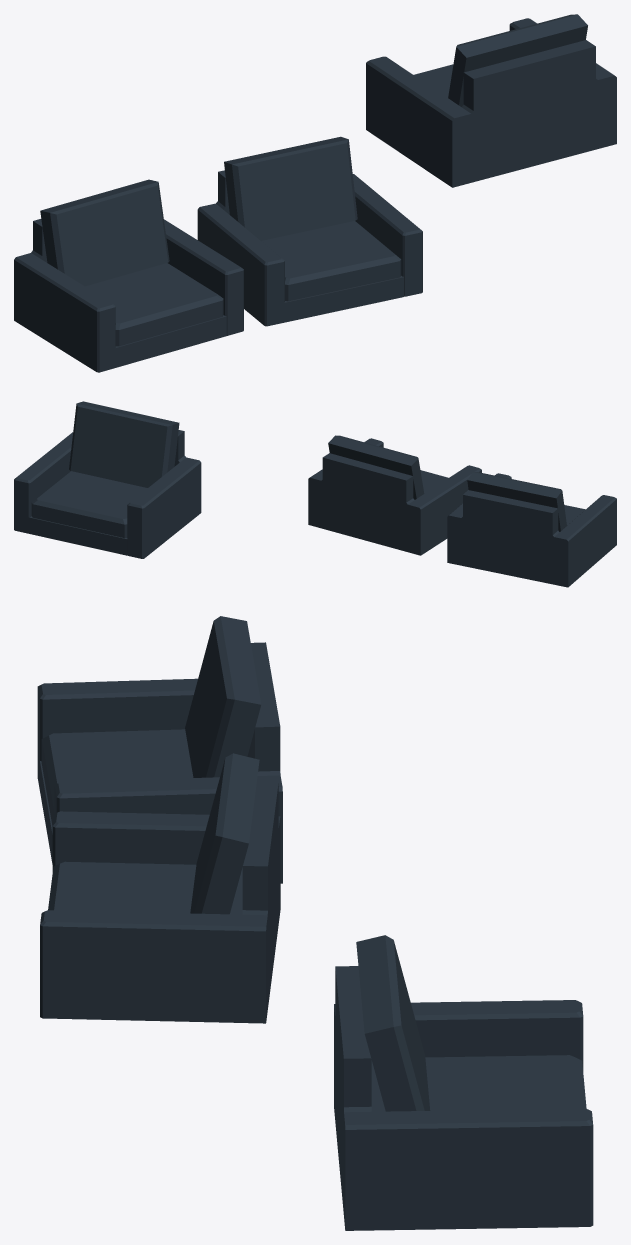
File: asset.glb
3 renders of one model, top to bottom at view 1: azimuth 30°, elevation 25°; view 2: azimuth 150°, elevation 25°; view 3: azimuth 270°, elevation 25°, orthographic. The views are drawn at different scales.
Parts seen in each view (by area): view 1: Object_1216, Object_387, Object_1213; view 2: Object_387, Object_1216, Object_1213; view 3: Object_387, Object_1213, Object_1216.
Part boxes in pixels (x1,y1,x2,y2): Object_1216: (14,179,243,372); Object_387: (366,14,616,187); Object_1213: (197,136,422,326); Object_387: (14,401,201,558); Object_1216: (447,472,616,587); Object_1213: (308,435,481,555); Object_387: (334,935,593,1230); Object_1213: (40,753,280,1023); Object_1216: (37,616,282,883).
Size of the model in its own units: 2.79 by 0.5369 by 1.41.
